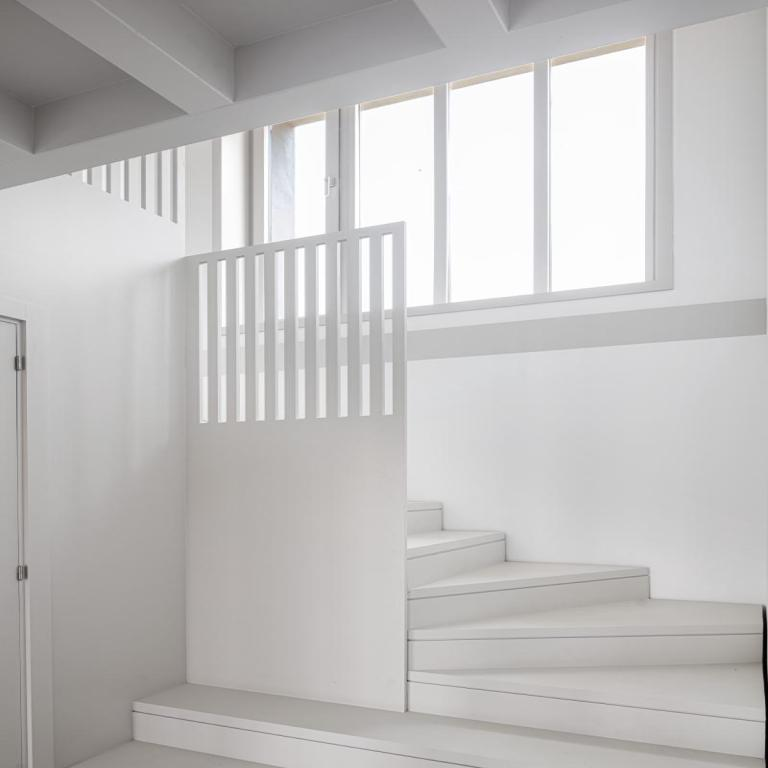white-walls: (19, 222, 382, 679)
